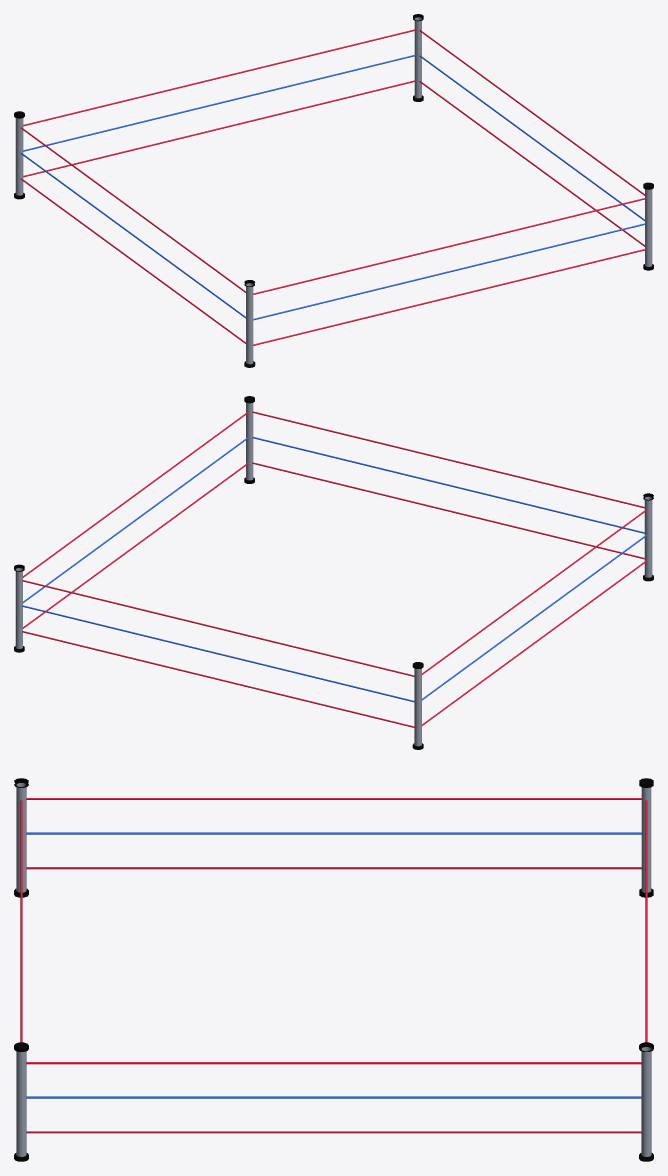
The model's file is WRESTLINGRING.fbx.
The picture shows the model from 3 angles, top to bottom: view 1: azimuth 30°, elevation 25°; view 2: azimuth 150°, elevation 25°; view 3: azimuth 270°, elevation 25°; orthographic projection. The views are drawn at different scales.
Parts seen in each view (by area): view 1: Ring; view 2: Ring; view 3: Ring.
Boxes of the visible parts, x1,y1,x2,y2 form: Ring: (14,14,653,367); Ring: (14,396,653,749); Ring: (14,778,653,1161).
Bounding box in the file's own units: 1023 × 200 × 1024.
